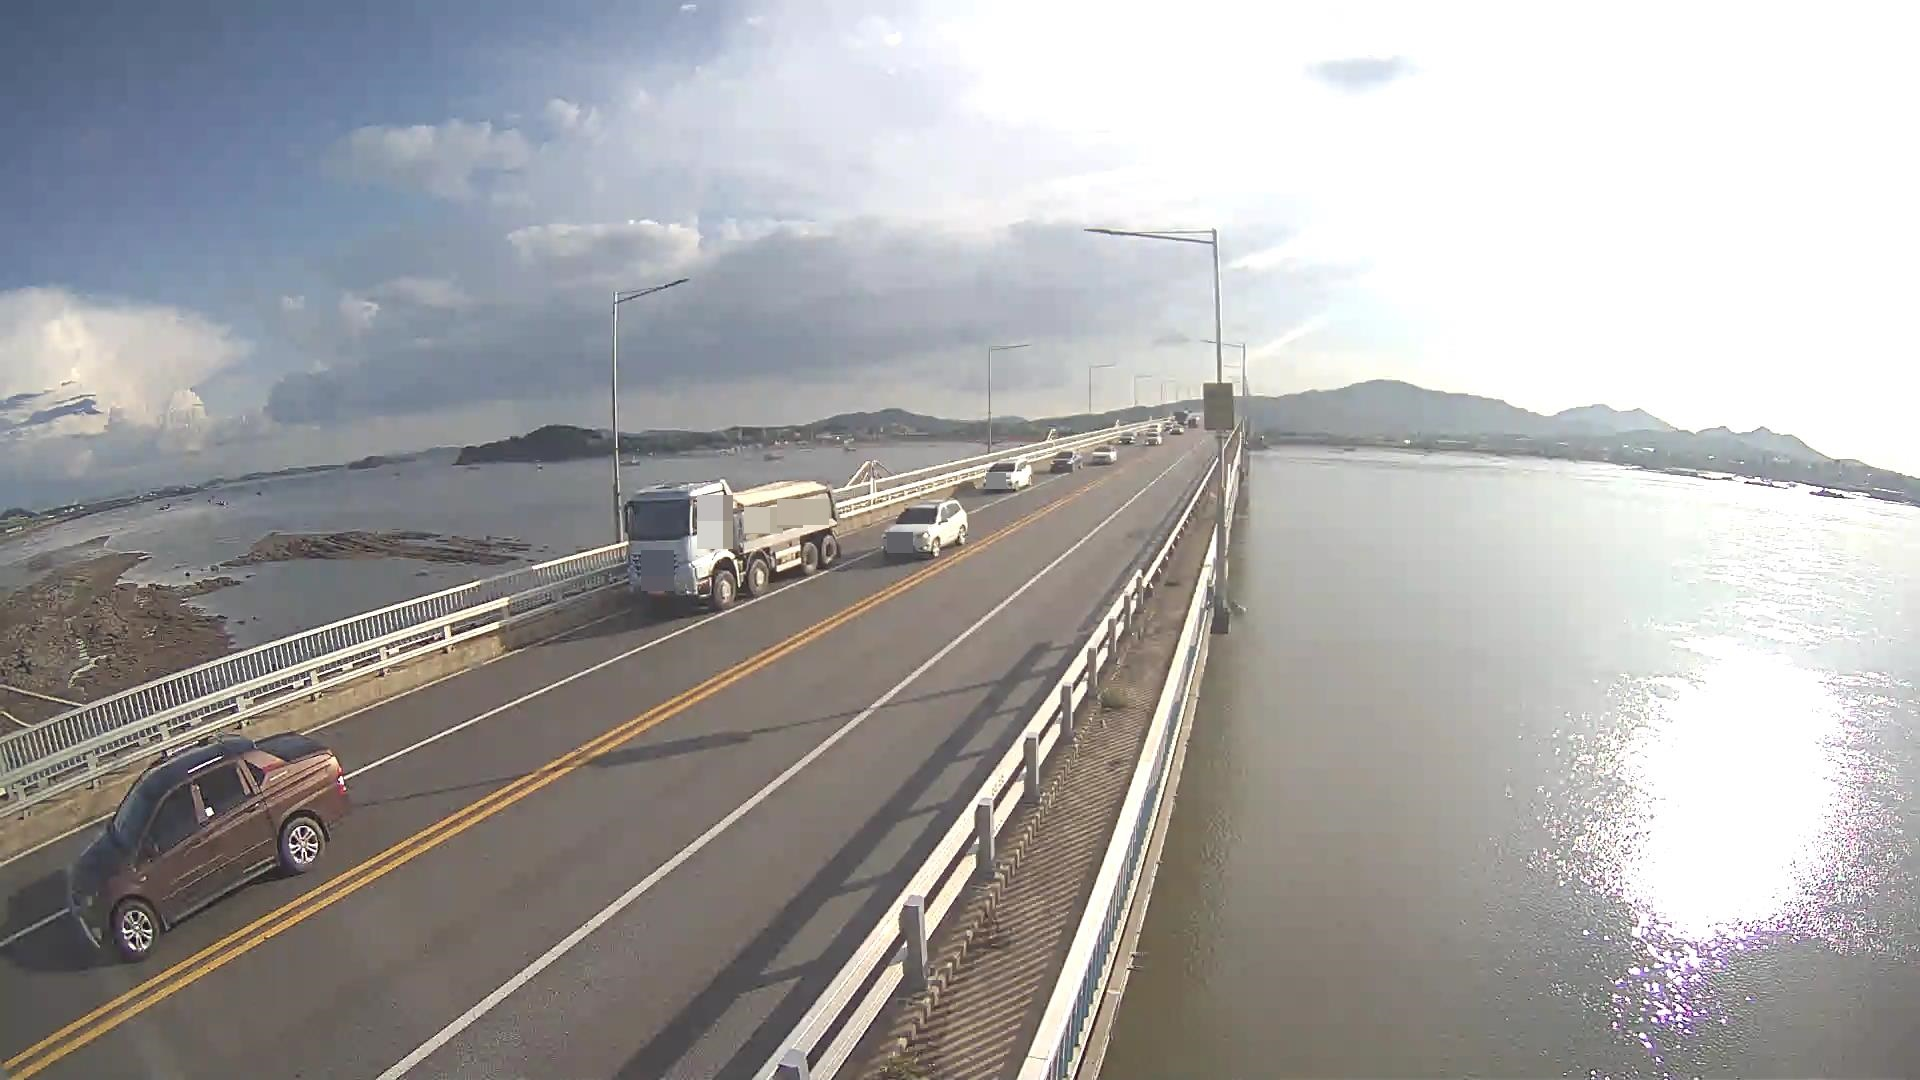정상차량: (624, 479, 841, 611)
